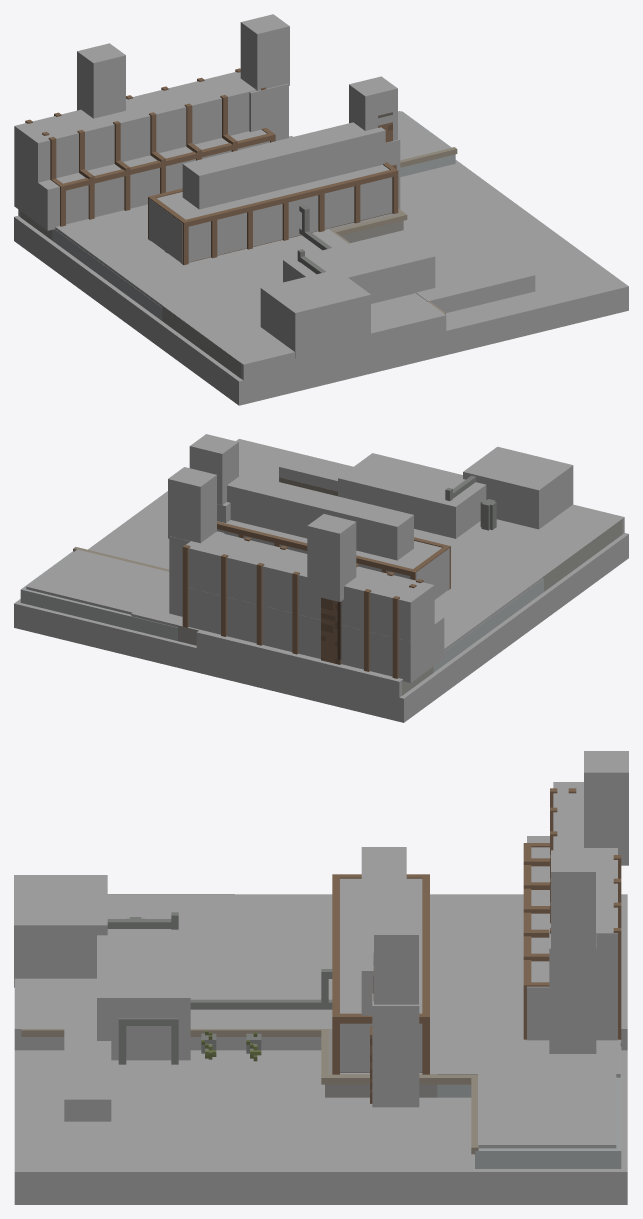
File: All_Factory.fbx
3 renders of one model, top to bottom at view 1: azimuth 30°, elevation 25°; view 2: azimuth 150°, elevation 25°; view 3: azimuth 270°, elevation 25°, orthographic. The views are drawn at different scales.
Parts seen in each view (by area): view 1: pCube1, pCube2, Factory, pCube6, pCube10, pCube7, pCube9, pCube5, pCube8, pCube12, pCube16, pCube13 (+3 smaller); view 2: pCube1, pCube2, Factory, pCube6, pCube5, pCube10, pCube8, pCube4, pCube9, pCube13, pCube12, pCube7 (+4 smaller); view 3: pCube1, pCube2, Factory, pCube8, pCube4, pCube9, pCube3, pCube7, pCube6, pCube15, pCube14, pCube12 (+5 smaller).
Part boxes in pixels (x1,y1,x2,y2): pCube1: (14,160,628,405); pCube2: (18,204,446,388); Factory: (20,68,457,378); pCube6: (14,71,256,182); pCube10: (182,122,385,209); pCube7: (149,165,392,263); pCube9: (260,269,370,358); pCube5: (14,129,269,230); pCube8: (283,231,435,303); pCube12: (240,14,289,90); pCube16: (416,262,535,312); pCube13: (77,43,125,118); pCube1: (14,439,628,722); pCube2: (196,504,624,705); Factory: (20,475,622,695); pCube6: (186,532,434,642); pCube5: (188,588,444,682); pCube10: (227,472,413,560); pCube8: (338,453,486,538); pCube4: (26,549,182,624); pCube9: (463,446,573,529); pCube13: (307,514,356,601); pCube12: (168,467,216,543); pCube7: (217,520,449,599); pCube1: (14,1050,627,1204); pCube2: (14,894,627,1050); Factory: (21,788,621,1168); pCube8: (97,919,190,1060); pCube4: (478,1074,616,1148); pCube9: (14,875,107,987); pCube3: (340,1029,620,1077); pCube7: (340,878,422,1072); pCube6: (553,782,617,988); pCube15: (372,981,419,1107); pCube14: (549,923,596,1053); pCube12: (551,850,595,952).
Size of the model in its own units: 1649 by 701 by 1640.
